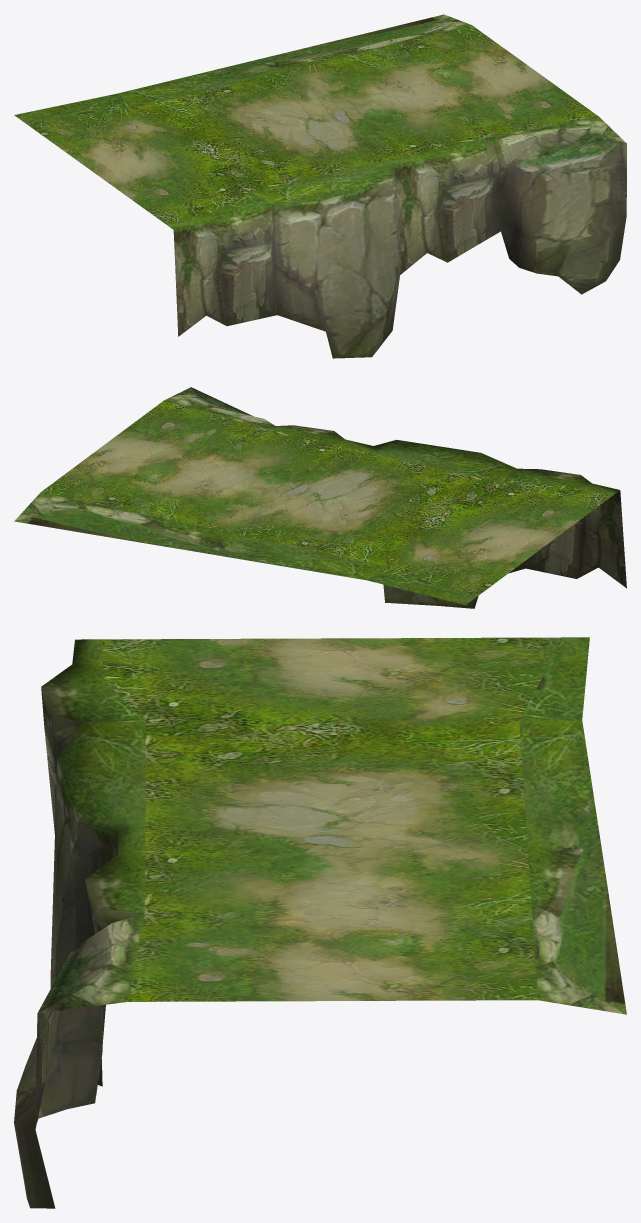
File: S_Rock_Green057.FBX
The picture shows the model from 3 angles, top to bottom: view 1: azimuth 30°, elevation 25°; view 2: azimuth 150°, elevation 25°; view 3: azimuth 270°, elevation 25°; orthographic projection. The views are drawn at different scales.
Visible parts, largest first — view 1: S_Rock_Green057; view 2: S_Rock_Green057; view 3: S_Rock_Green057.
Part boxes in pixels (x1,y1,x2,y2): S_Rock_Green057: [14, 14, 626, 358]; S_Rock_Green057: [14, 387, 626, 608]; S_Rock_Green057: [14, 637, 626, 1208].
Bounding box in the file's own units: 2412 × 874 × 1763.
Materials: 1 (1 with a texture image).
